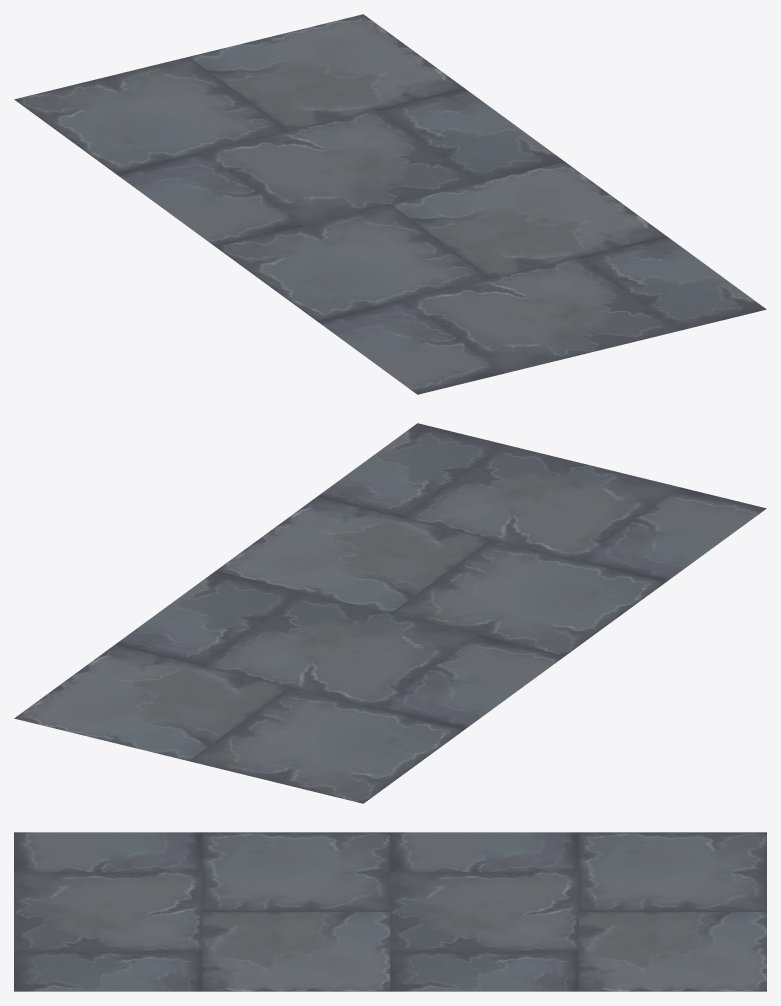
Rendered from Castle Ground X Bright 4x2.fbx.
3 views of the same model, one above another, from view 1: azimuth 30°, elevation 25°; view 2: azimuth 150°, elevation 25°; view 3: azimuth 270°, elevation 25° (orthographic). The views are drawn at different scales.
Visible parts, largest first — view 1: Castle Ground X Bright 4x2; view 2: Castle Ground X Bright 4x2; view 3: Castle Ground X Bright 4x2.
Part boxes in pixels (<box>): Castle Ground X Bright 4x2: <box>14,14,766,394</box>; Castle Ground X Bright 4x2: <box>14,423,766,803</box>; Castle Ground X Bright 4x2: <box>14,832,766,991</box>.
Bounding box in the file's own units: 1.5 × 8.05e-07 × 3.
